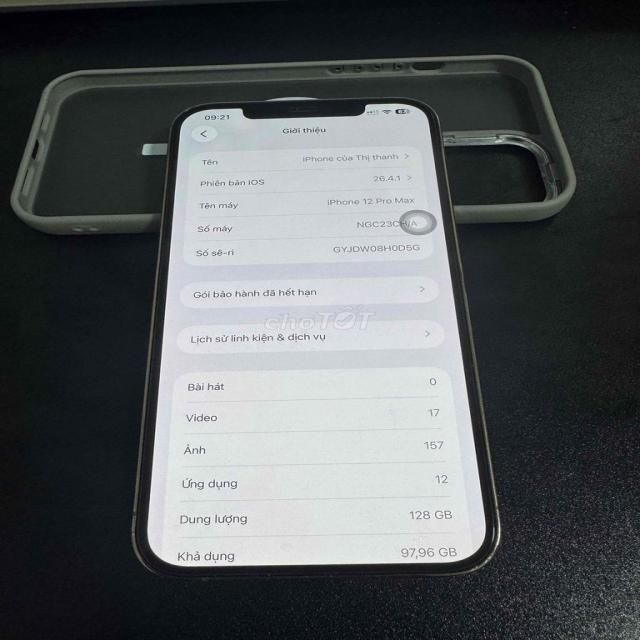gen_12_13: (127, 98, 532, 590)
